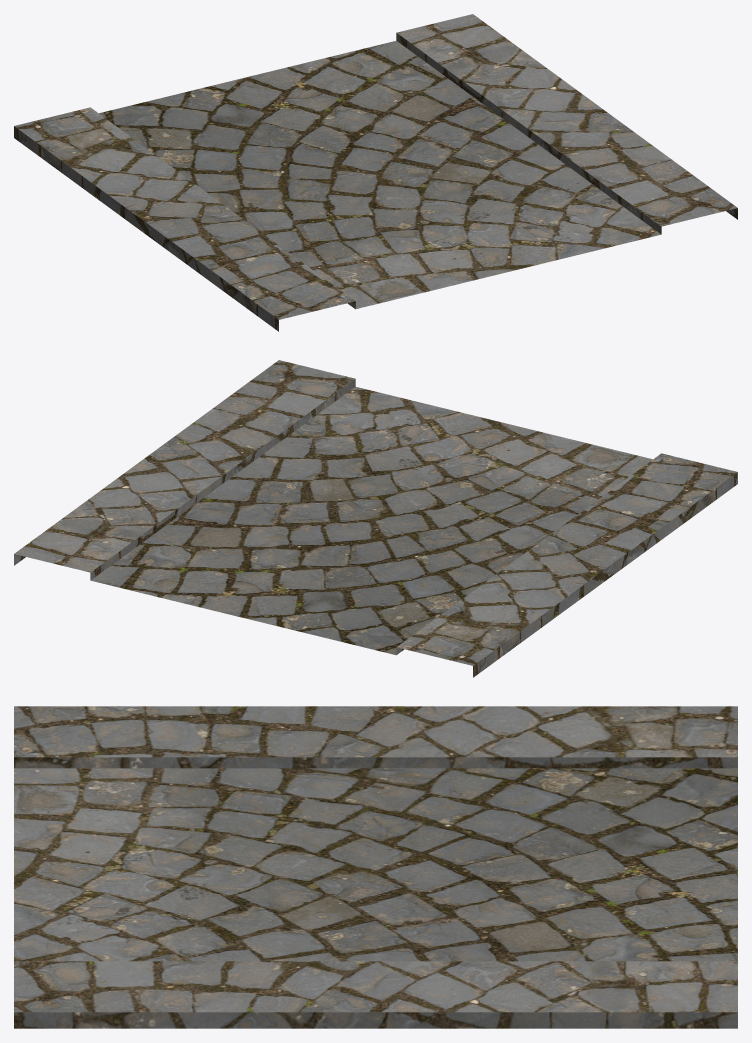
File: roads1.gltf
3 renders of one model, top to bottom at view 1: azimuth 30°, elevation 25°; view 2: azimuth 150°, elevation 25°; view 3: azimuth 270°, elevation 25°, orthographic. The views are drawn at different scales.
Parts seen in each view (by area): view 1: Object_12; view 2: Object_12; view 3: Object_12.
Boxes of the visible parts, bbox=[...] form: Object_12: bbox=[14, 14, 737, 331]; Object_12: bbox=[14, 360, 737, 677]; Object_12: bbox=[14, 706, 737, 1028].
Size of the model in its own units: 12 by 0.2997 by 12.
Materials: 1 (1 with a texture image).
